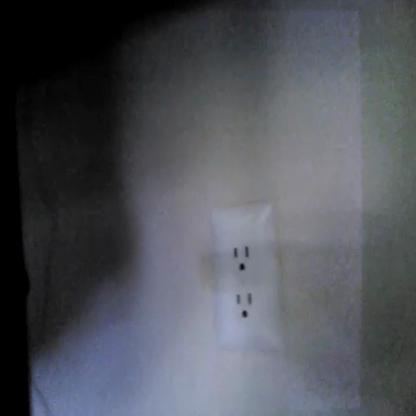OUTLET: (210, 203, 284, 355)
